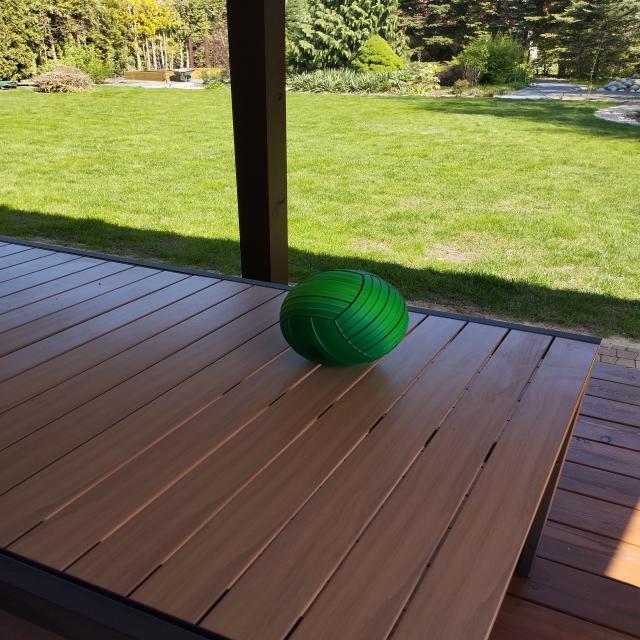zielona: (283, 269, 408, 364)
